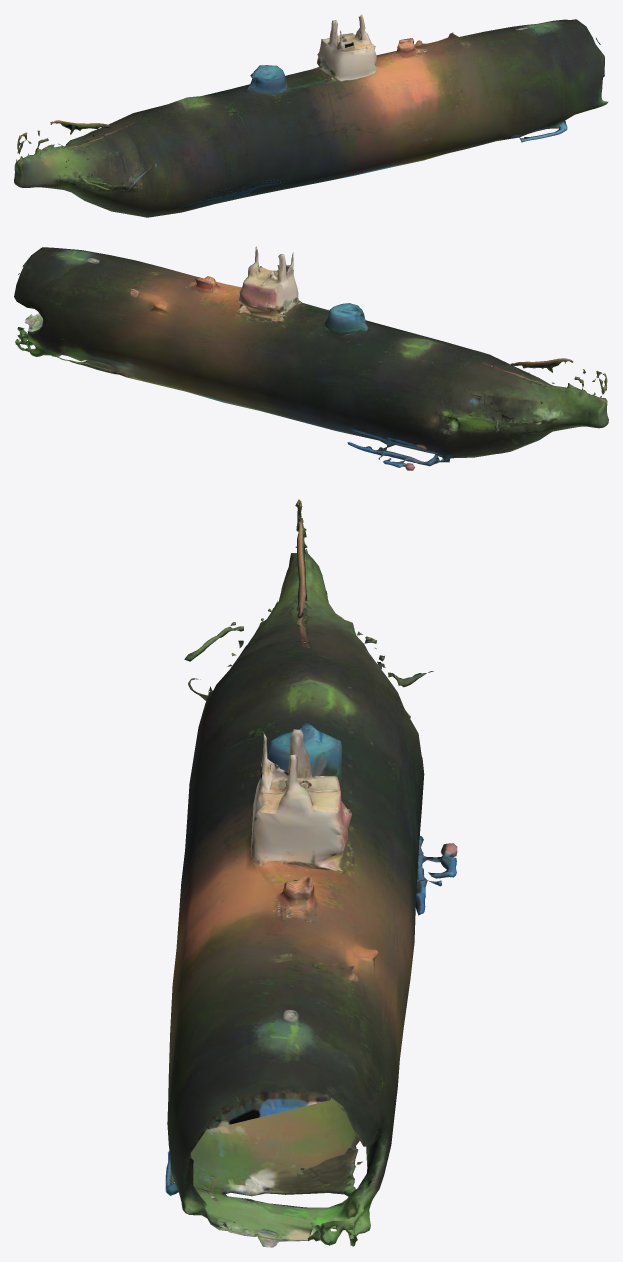
Rendered from SunkenWold v4.glb.
3 renders of one model, top to bottom at view 1: azimuth 30°, elevation 25°; view 2: azimuth 150°, elevation 25°; view 3: azimuth 270°, elevation 25°, orthographic. The views are drawn at different scales.
Visible parts, largest first — view 1: Mesh0; view 2: Mesh0; view 3: Mesh0.
Boxes of the visible parts, x1,y1,x2,y2 form: Mesh0: (14,14,608,217); Mesh0: (14,246,608,470); Mesh0: (165,499,457,1247).
Bounding box in the file's own units: 1.97 × 0.4807 × 0.4326.
1 material, 1 textured.
